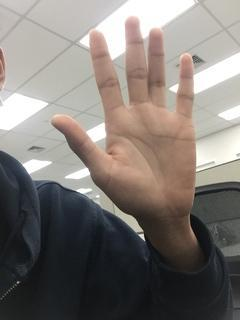hand: (49, 14, 198, 216)
